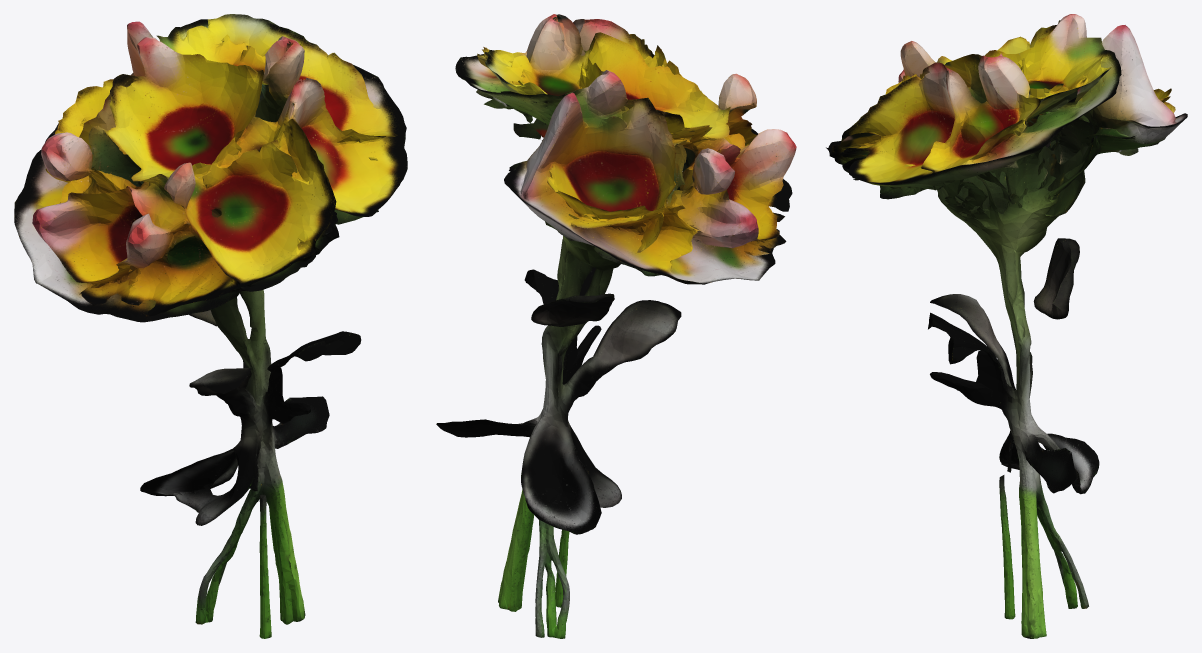
File: sunflower bouquet.glb
3 views of the same model, side by side, from view 1: azimuth 30°, elevation 25°; view 2: azimuth 150°, elevation 25°; view 3: azimuth 270°, elevation 25° (orthographic). The views are drawn at different scales.
Visible parts, largest first — view 1: world; view 2: world; view 3: world.
Part boxes in pixels (x1,y1,x2,y2): world: (14, 14, 407, 638); world: (436, 14, 796, 638); world: (826, 14, 1187, 638).
Bounding box in the file's own units: 0.5661 × 1 × 0.5758.
1 material, 1 textured.
